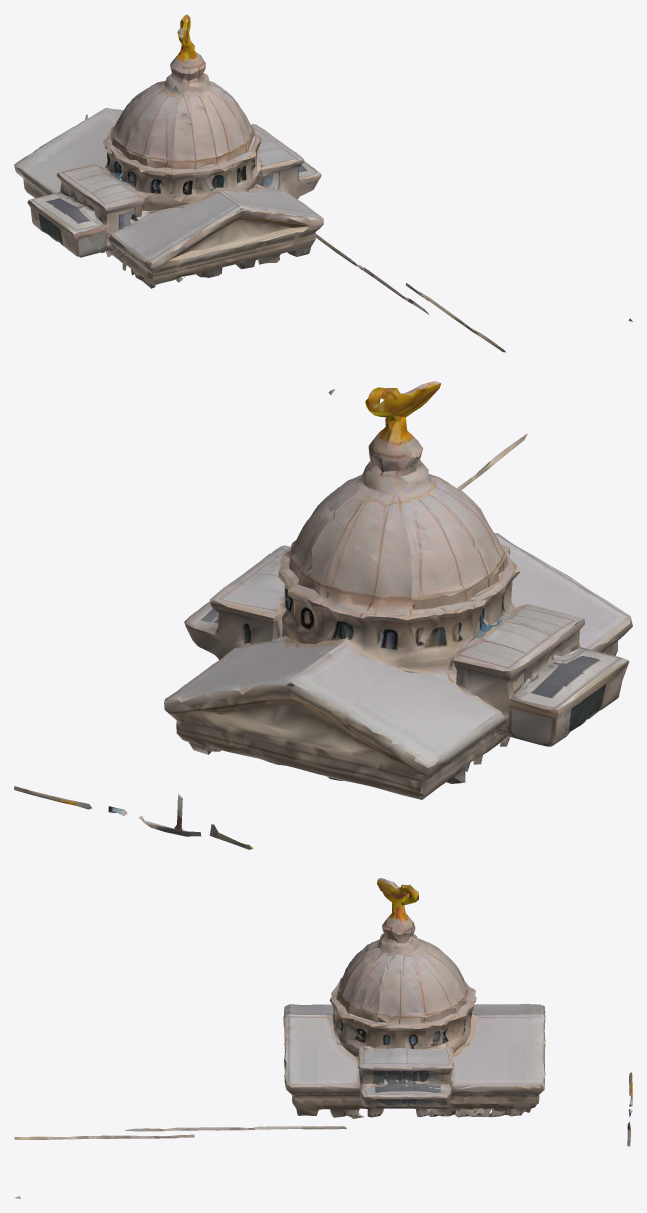
Rendered from chimei-museum.glb.
3 renders of one model, top to bottom at view 1: azimuth 30°, elevation 25°; view 2: azimuth 150°, elevation 25°; view 3: azimuth 270°, elevation 25°, orthographic. The views are drawn at different scales.
Parts seen in each view (by area): view 1: logan-textured.obj; view 2: logan-textured.obj; view 3: logan-textured.obj.
Part boxes in pixels (x1=…): logan-textured.obj: x1=14, y1=14, x2=632, y2=352; logan-textured.obj: x1=14, y1=381, x2=632, y2=849; logan-textured.obj: x1=14, y1=878, x2=632, y2=1198.
Bounding box in the file's own units: 0.6712 × 0.3649 × 1.
1 material, 1 textured.
